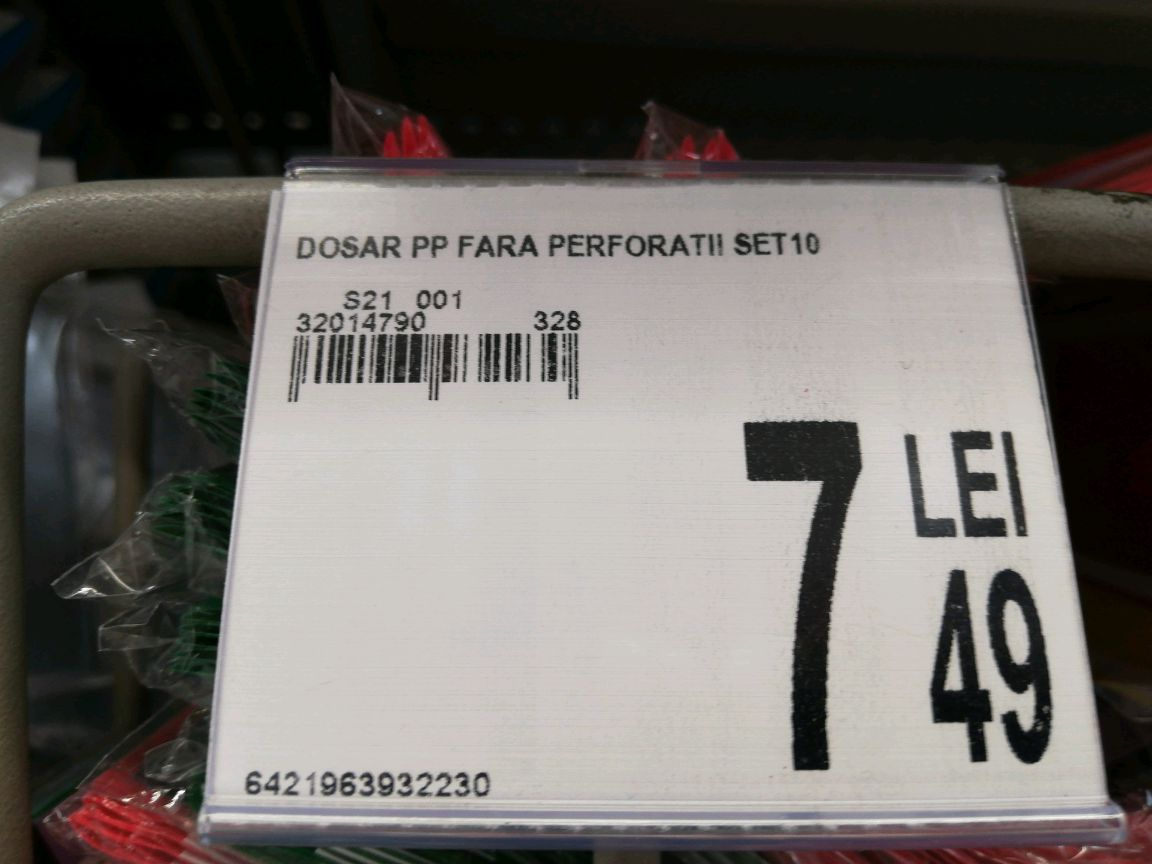price_bani: (905, 553, 1068, 776)
price_lei: (726, 410, 872, 781)
price_tag: (196, 154, 1119, 815)
product_id: (233, 756, 507, 804)
product_name: (279, 222, 840, 270)
